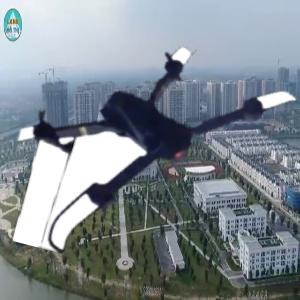drone: (22, 3, 294, 275)
